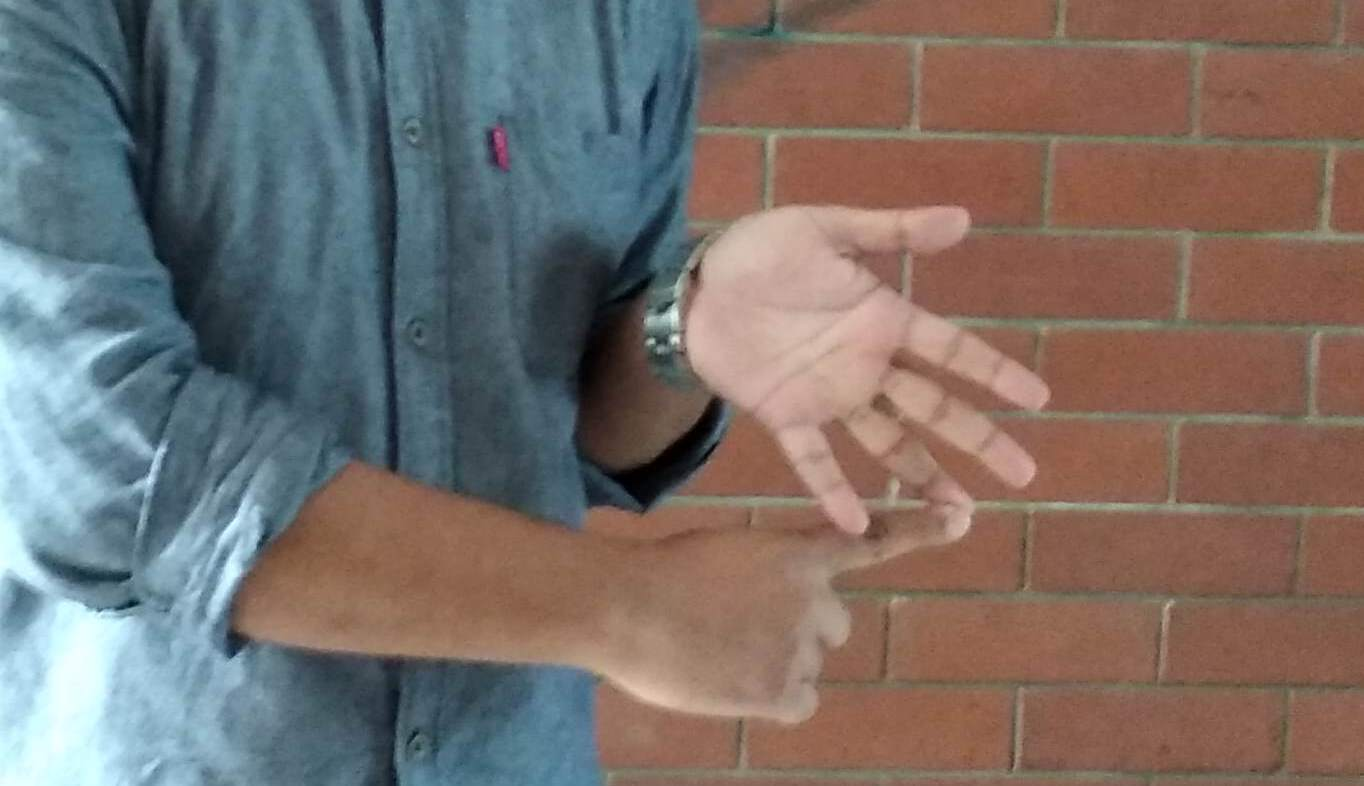e: (682, 218, 1045, 690)
